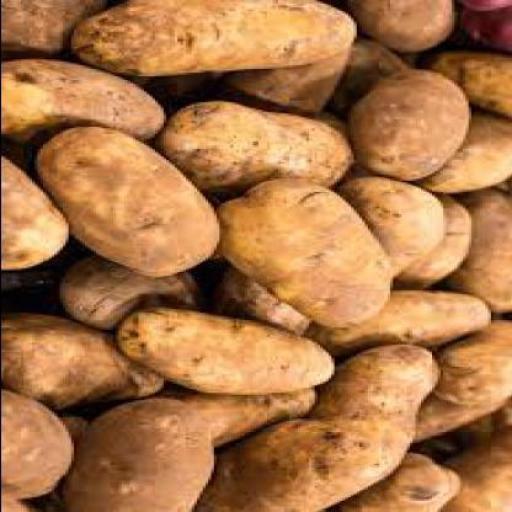biodegradable: (2, 0, 511, 512), (36, 125, 224, 275), (218, 176, 392, 326), (68, 0, 360, 74), (156, 98, 358, 194), (120, 303, 339, 391), (58, 396, 218, 511), (194, 417, 386, 510), (3, 311, 168, 413), (319, 341, 442, 469), (3, 56, 171, 147), (352, 67, 476, 180), (316, 286, 492, 356), (336, 174, 450, 280), (414, 316, 510, 441), (59, 252, 207, 326), (216, 45, 358, 114), (159, 386, 322, 445), (442, 186, 511, 314), (2, 387, 79, 498), (416, 107, 511, 196), (326, 449, 464, 510), (392, 192, 476, 287), (3, 154, 70, 268), (218, 266, 319, 332), (328, 36, 414, 112), (2, 0, 112, 57), (442, 421, 511, 511), (350, 0, 459, 53), (414, 399, 510, 459), (439, 48, 511, 121), (146, 67, 226, 107), (462, 4, 510, 52), (58, 415, 93, 434), (3, 497, 50, 510), (461, 0, 510, 12)
